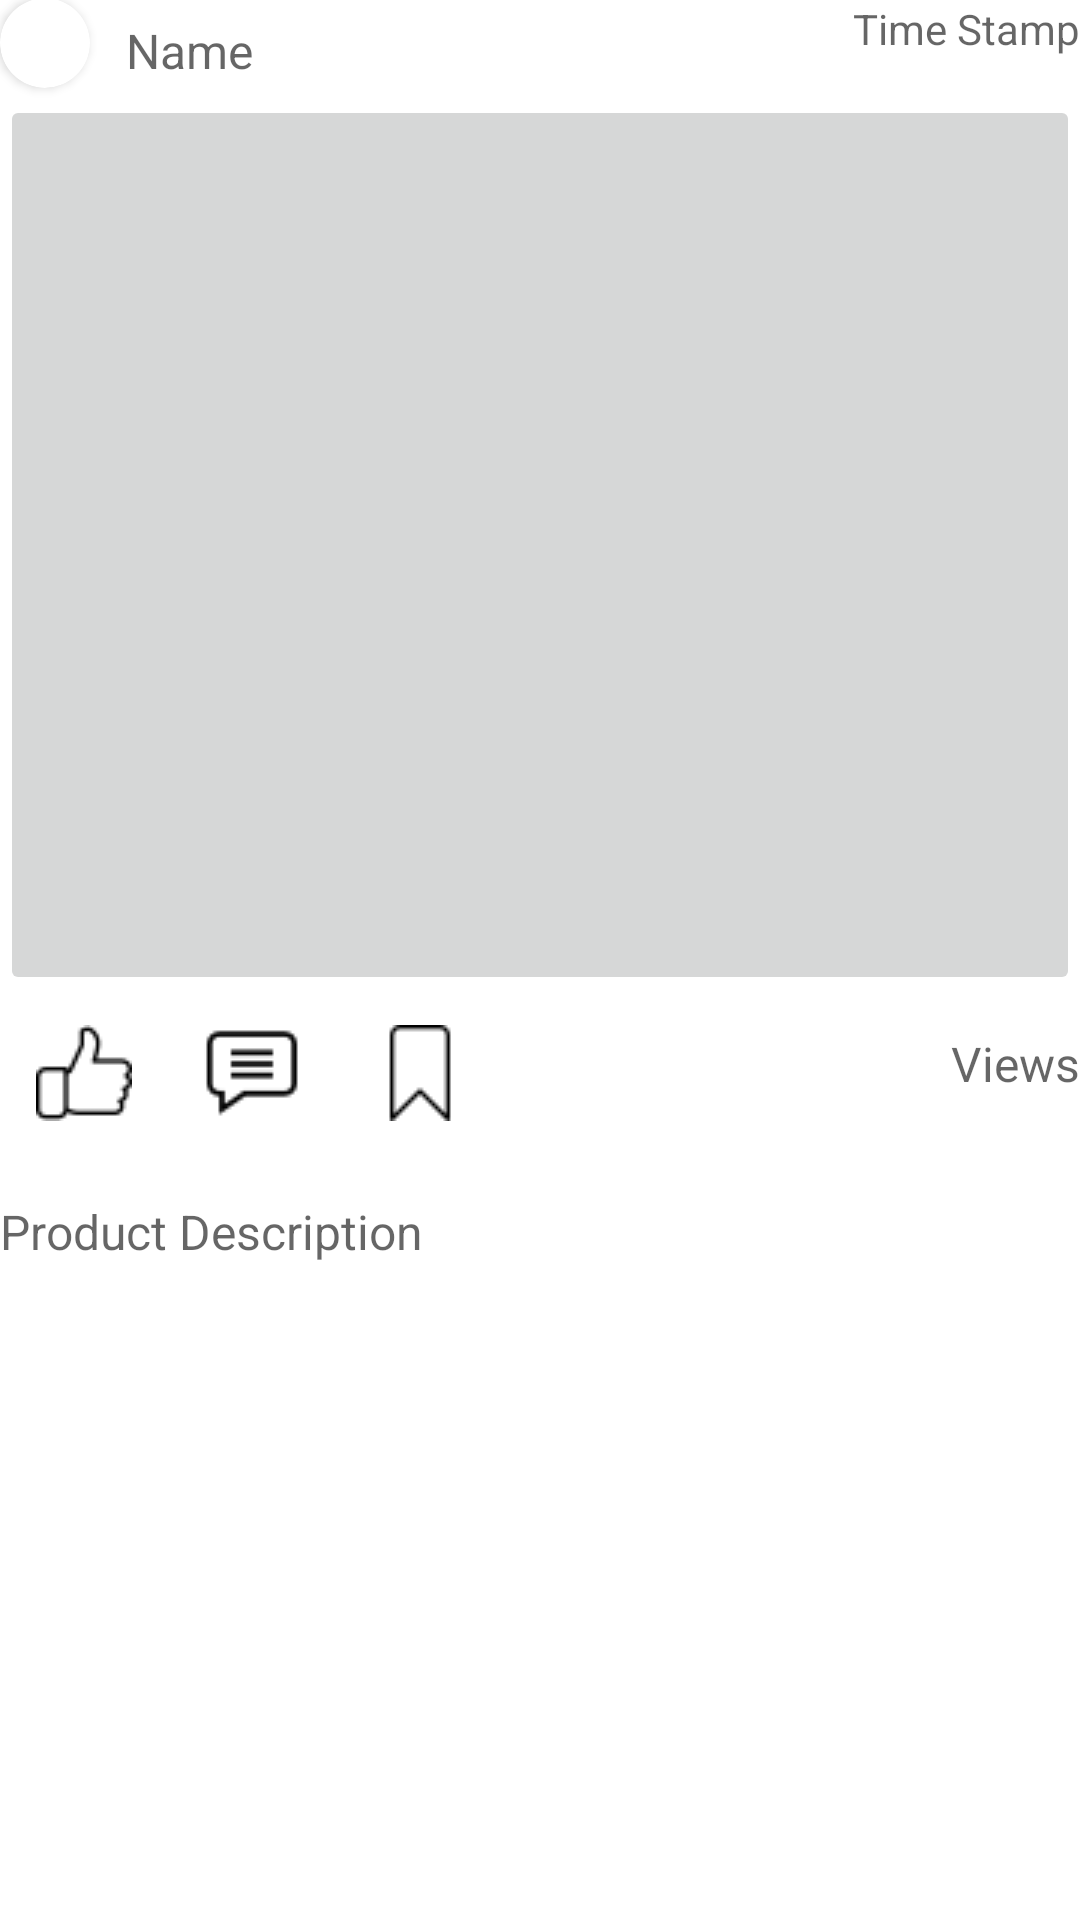

Icons on this 1080w x 1920h Android screen, each with the point to tap as (x=x, y=y):
bookmark: (x=420, y=1073)
comment: (x=252, y=1073)
like: (x=84, y=1073)
